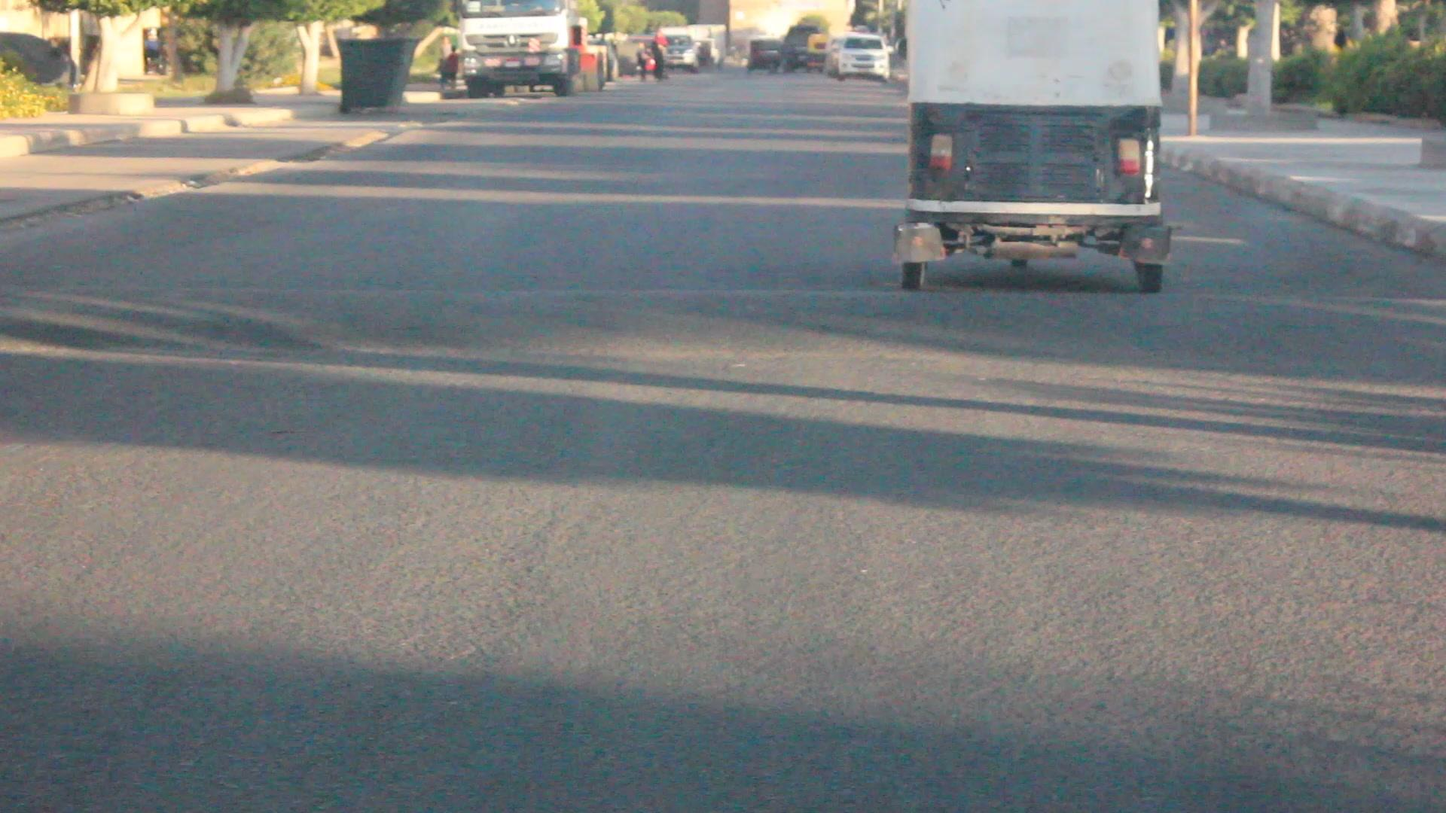Bump: (32, 286, 1446, 378)
